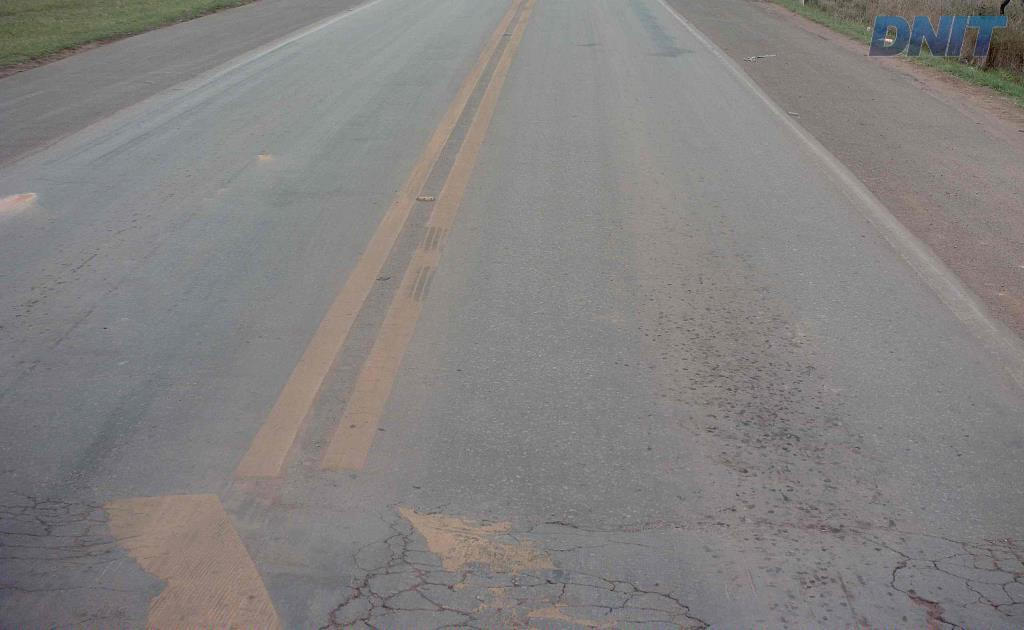crack: (317, 532, 482, 629), (591, 575, 710, 629), (890, 559, 969, 629), (967, 547, 1023, 620)
